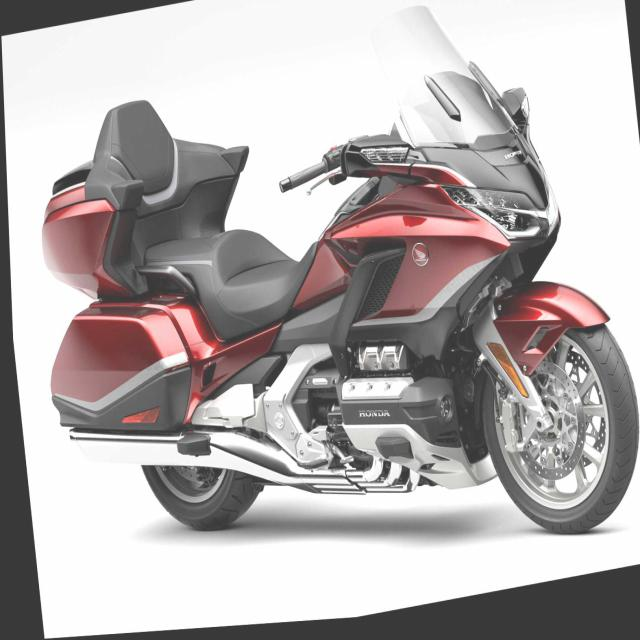Gold Wing: (15, 0, 640, 629)
